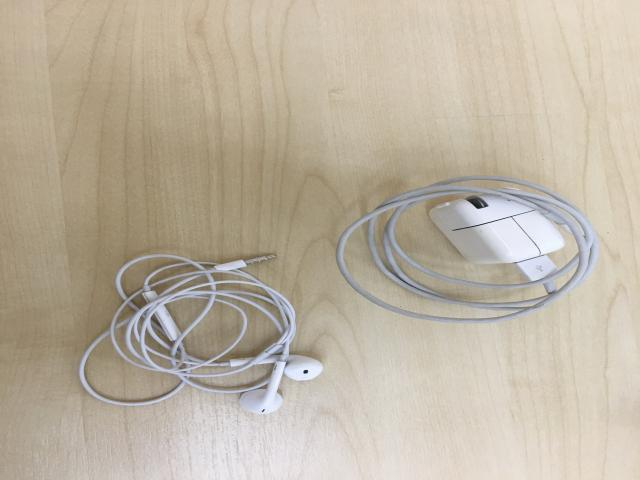wire: (334, 175, 602, 325), (77, 254, 323, 415)
